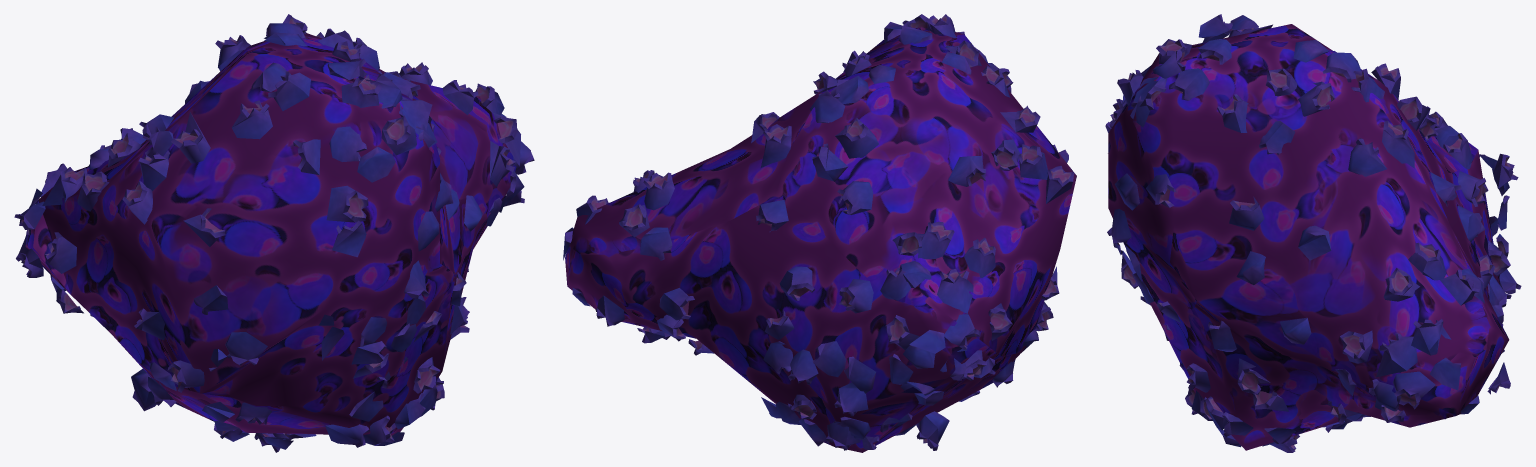
File: env_building_blueberrypile_lod1.fbx
The picture shows the model from 3 angles, left to right: view 1: azimuth 30°, elevation 25°; view 2: azimuth 150°, elevation 25°; view 3: azimuth 270°, elevation 25°; orthographic projection. The views are drawn at different scales.
Visible parts, largest first — view 1: env_building_blueberrypile_lod1; view 2: env_building_blueberrypile_lod1; view 3: env_building_blueberrypile_lod1.
Boxes of the visible parts, left/top/right/bottom form: env_building_blueberrypile_lod1: left=14, top=14, right=534, bottom=452; env_building_blueberrypile_lod1: left=563, top=14, right=1076, bottom=452; env_building_blueberrypile_lod1: left=1105, top=14, right=1521, bottom=452.
Bounding box in the file's own units: 18.77 × 15.04 × 14.64.
